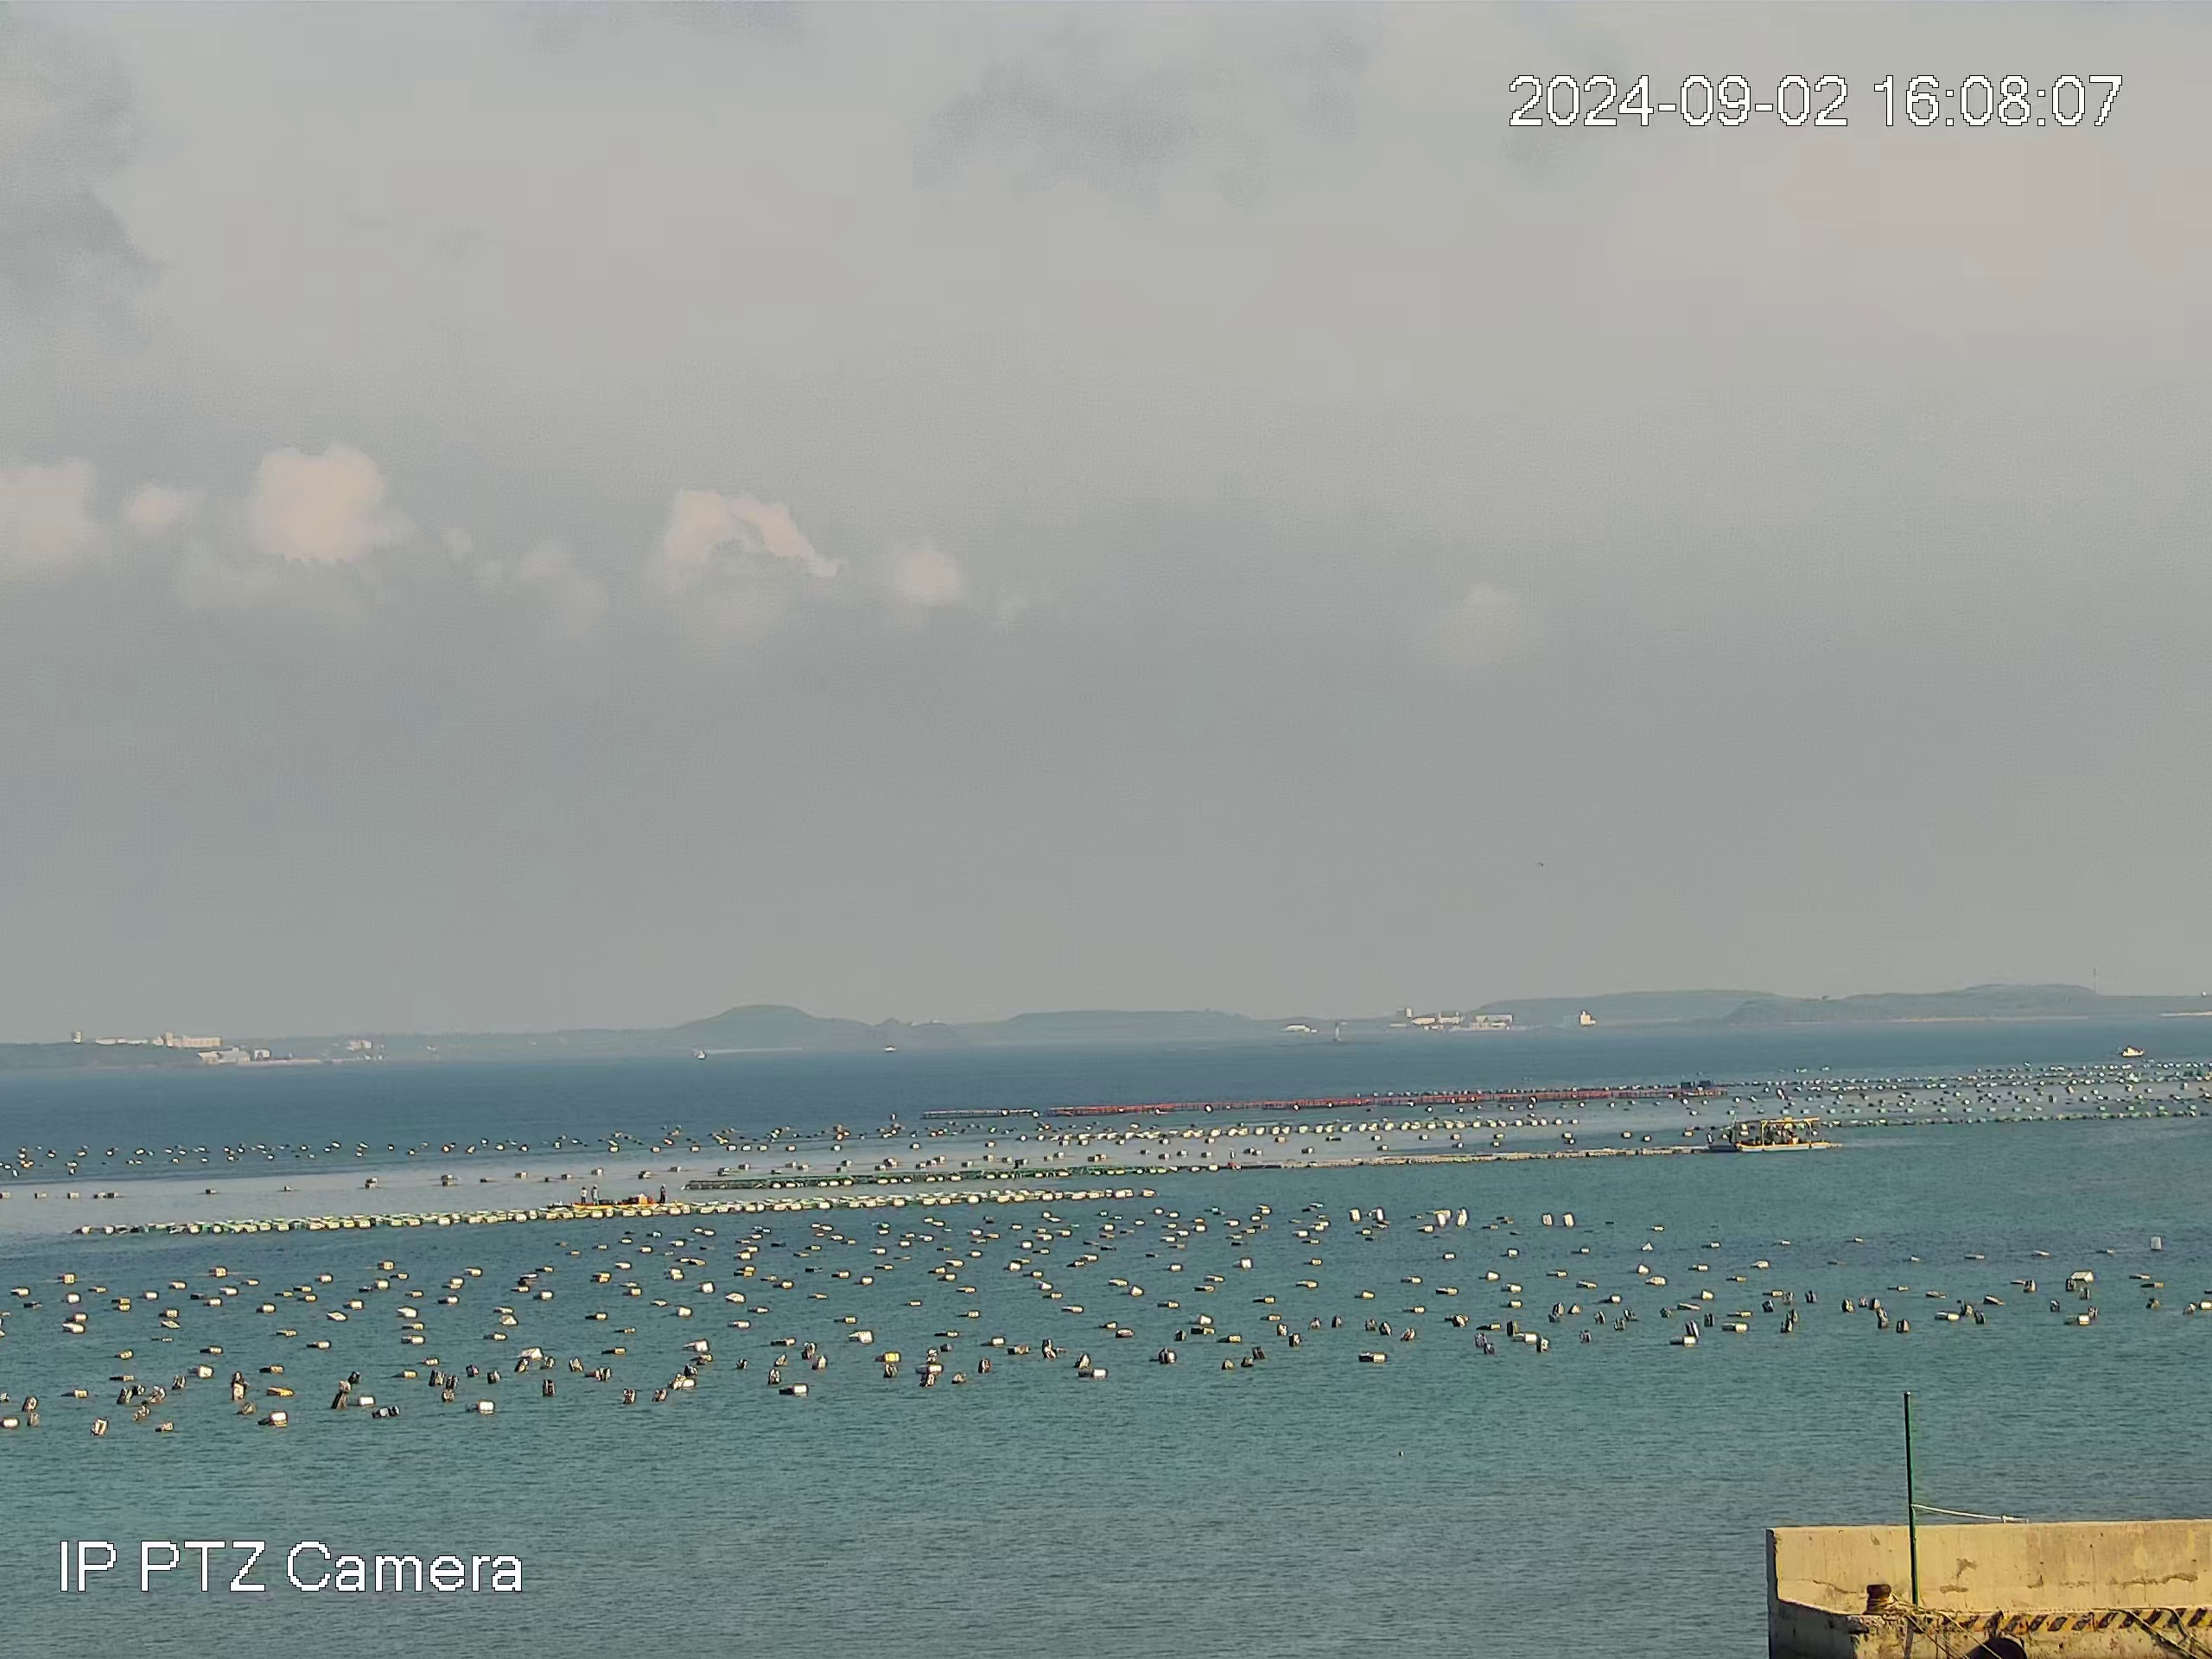boat: (1733, 1117, 1829, 1154), (570, 1183, 657, 1209), (2118, 1044, 2146, 1058)
